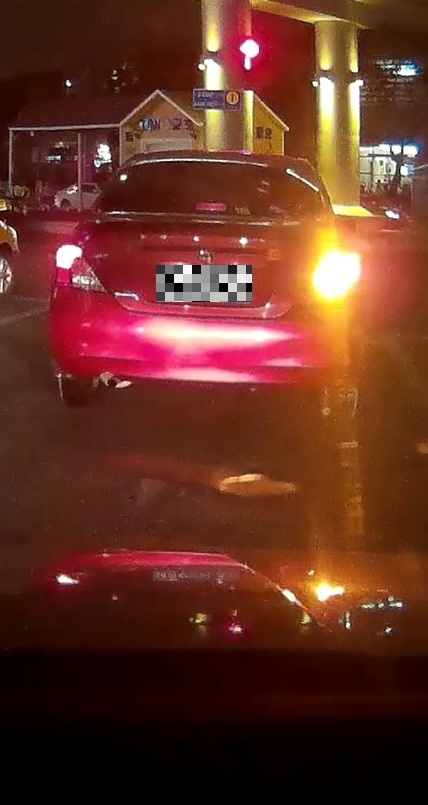L_light: (52, 243, 108, 294)
R_light: (305, 253, 354, 303)
T_light: (192, 201, 229, 214)
night-right: (46, 149, 360, 419)
plate_1: (156, 265, 252, 302)
